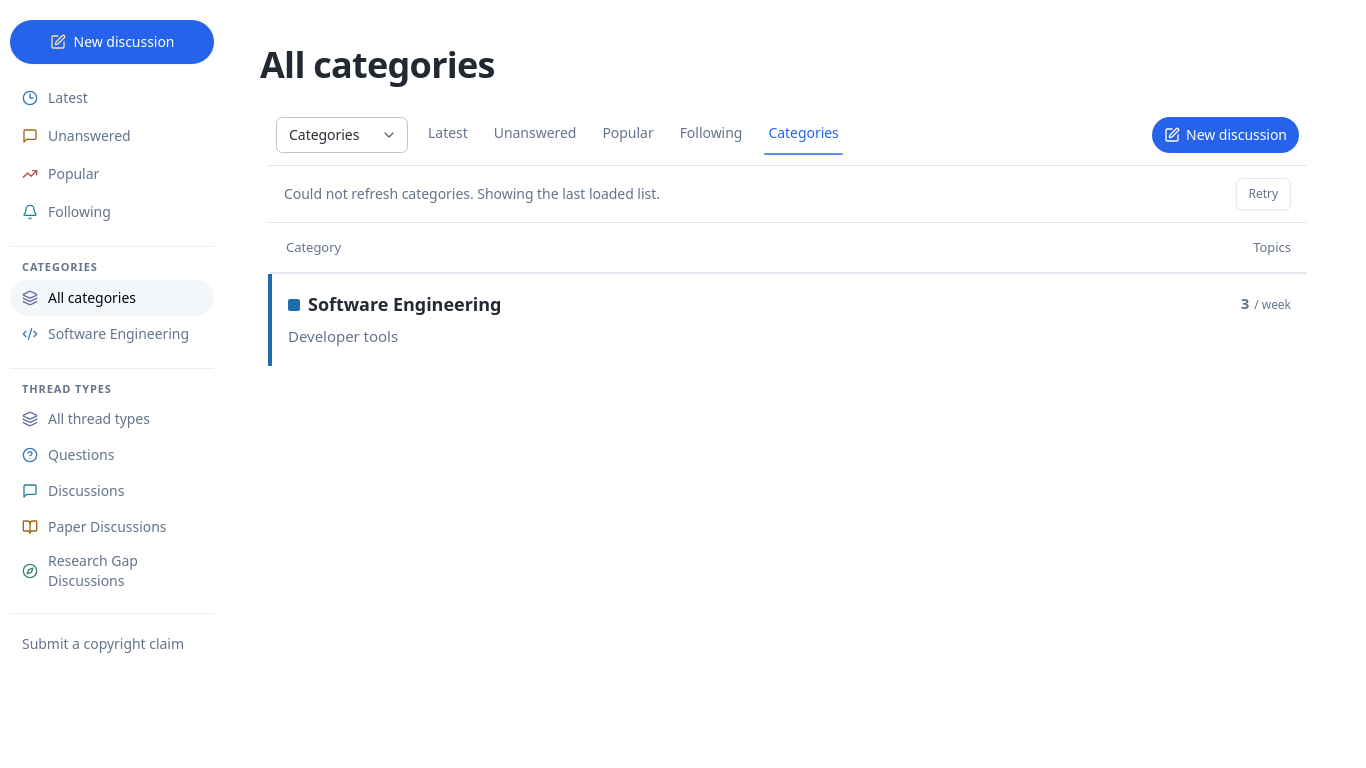
Test: Forum loading and reading interactions › retains the category table and navigation when a background refresh fails, then retries
Check: the message "Could not refresh categories. Showing the last loaded list. Retry" is shown, box [268,166,1307,223]
Check: the link to "/forum?category=software-engineering" is shown, box [22,324,189,342]
Click the button "Retry": (1263, 194) [1236,178,1291,210]
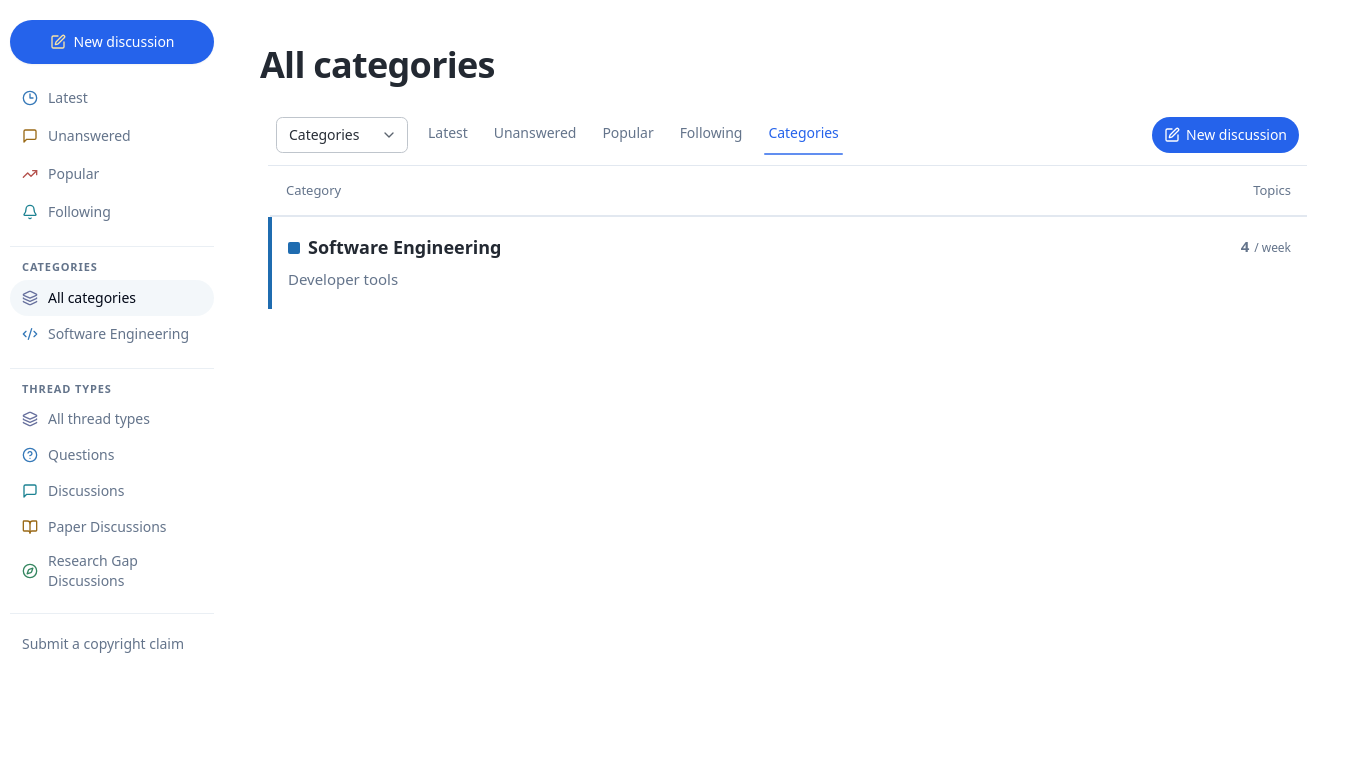
Check: the cell with class "forum-category-directory-count" reads "4/ week", box [1187,217,1307,309]
Check: the message "Could not refresh categories. Showing the last loaded list. Retry" is gone
